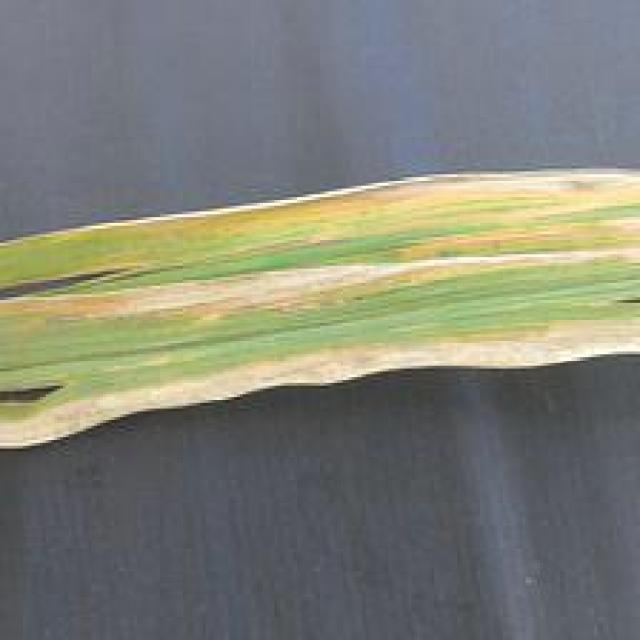Rice_Bacterial_Blight: (8, 208, 623, 358)
